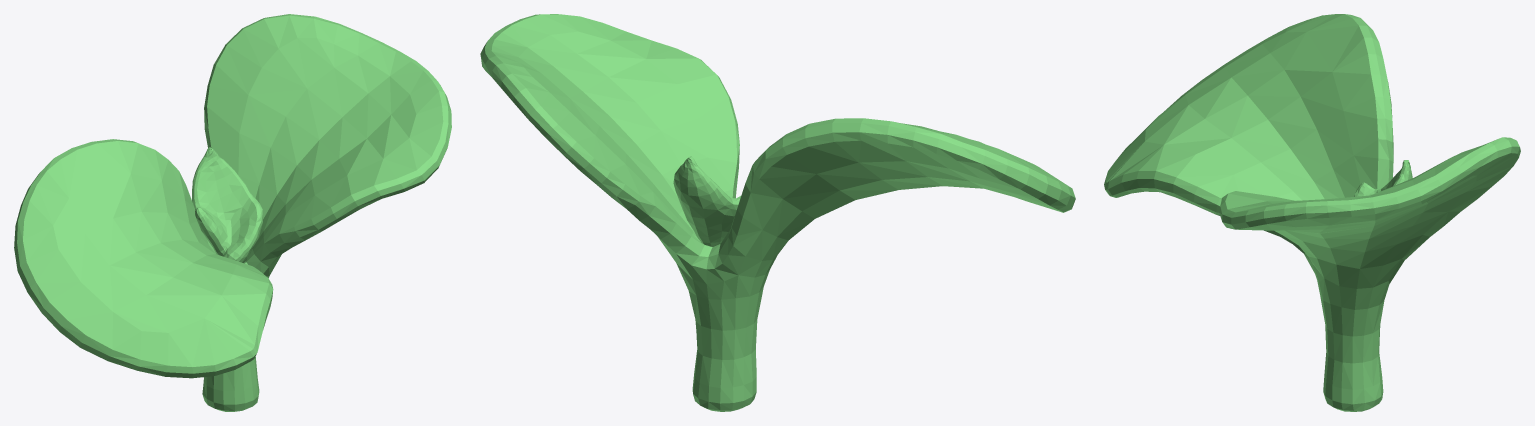
The model's file is crop_cab1.glb.
The picture shows the model from 3 angles, left to right: view 1: azimuth 30°, elevation 25°; view 2: azimuth 150°, elevation 25°; view 3: azimuth 270°, elevation 25°; orthographic projection. The views are drawn at different scales.
Visible parts, largest first — view 1: leaf; view 2: leaf; view 3: leaf.
Part boxes in pixels (x1=…): leaf: x1=14, y1=14, x2=451, y2=411; leaf: x1=480, y1=14, x2=1075, y2=411; leaf: x1=1104, y1=14, x2=1520, y2=411.
Size of the model in its own units: 0.2588 by 0.1714 by 0.1997.
